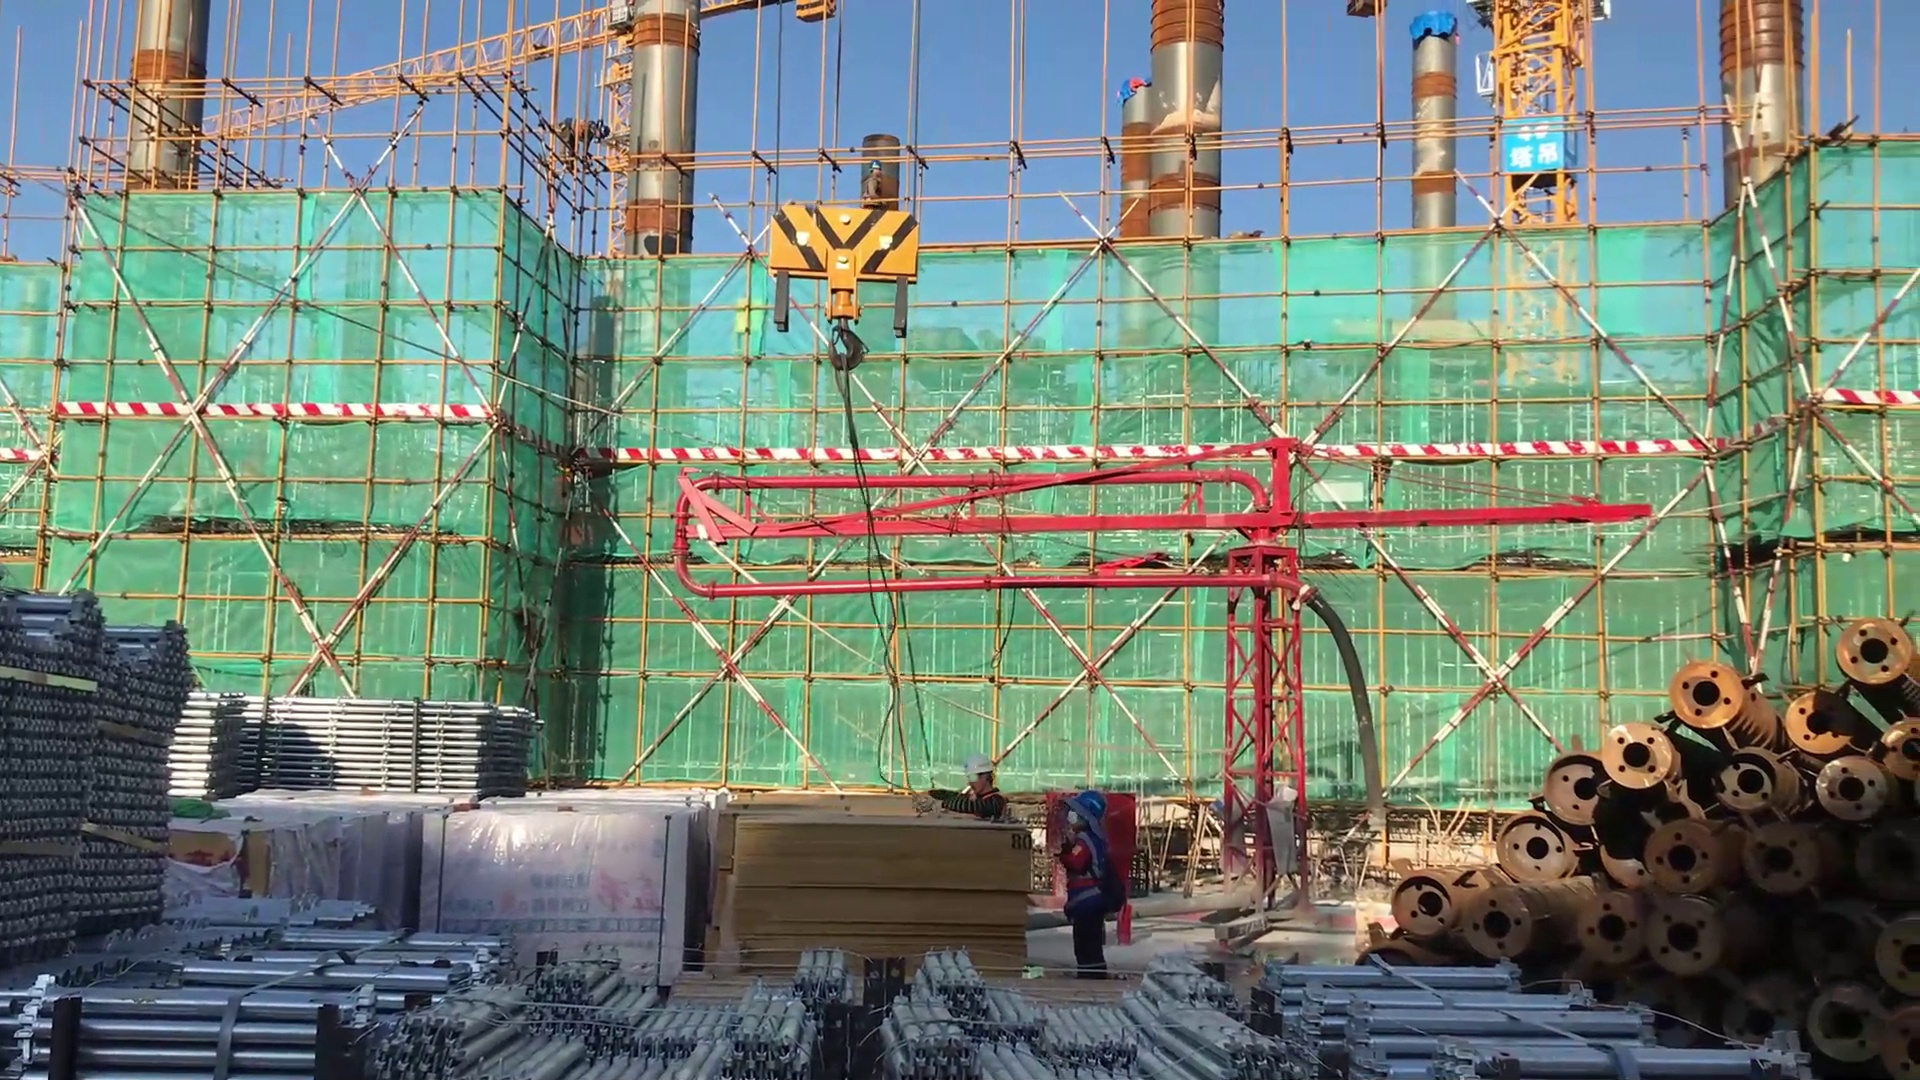board: (713, 794, 1033, 970)
helmet: (1073, 782, 1107, 827), (965, 753, 997, 797), (867, 159, 881, 175)
hook: (744, 189, 943, 414)
person: (1052, 782, 1130, 989), (910, 756, 1021, 831), (860, 152, 896, 224)
scaffold: (1, 896, 525, 1079), (1, 577, 216, 964), (368, 948, 865, 1080), (819, 942, 1277, 1080), (1295, 959, 1806, 1080), (162, 694, 575, 802)
slogan: (1504, 117, 1575, 178)
vest: (1058, 825, 1125, 923)
